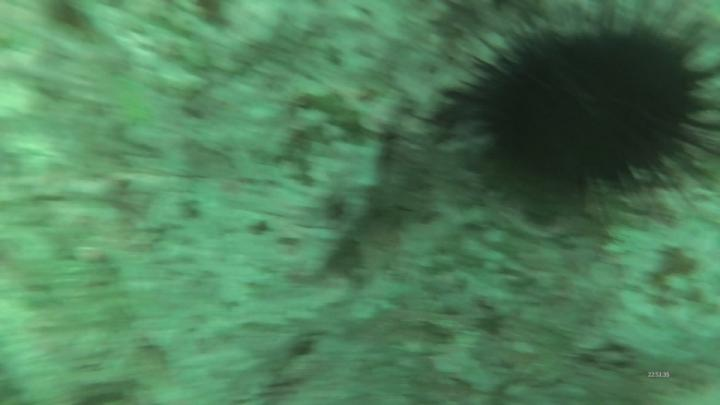echinus: (469, 31, 720, 186)
